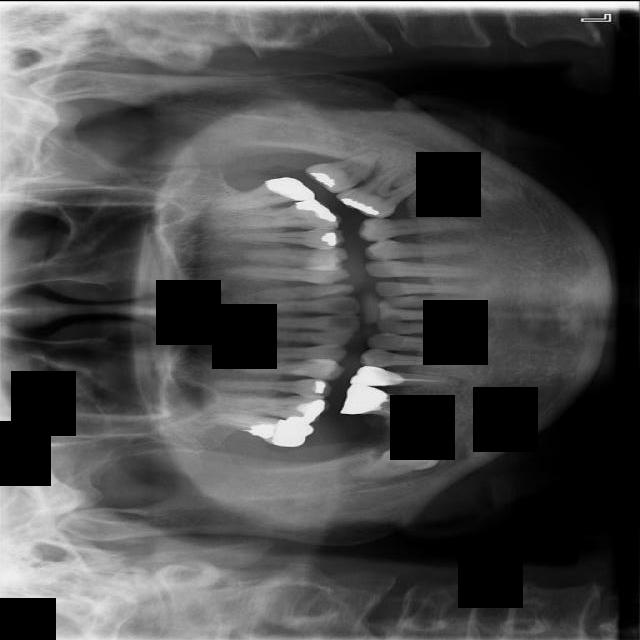52: (338, 378, 390, 427), (263, 168, 318, 205), (246, 419, 313, 446), (350, 361, 402, 392), (285, 395, 332, 428), (292, 191, 340, 223), (340, 194, 382, 217), (310, 165, 337, 188), (320, 228, 339, 245), (315, 378, 325, 392)
73: (361, 389, 448, 426), (383, 370, 460, 384), (620, 12, 626, 20)
BioHorizons Implant: (212, 169, 316, 218)
Biomet 3i Implant: (307, 148, 384, 198)
Blue Sky Bio Implant: (336, 150, 444, 233)
Caries: (207, 400, 313, 451)
Keystone Dental Implant: (349, 438, 441, 484)
